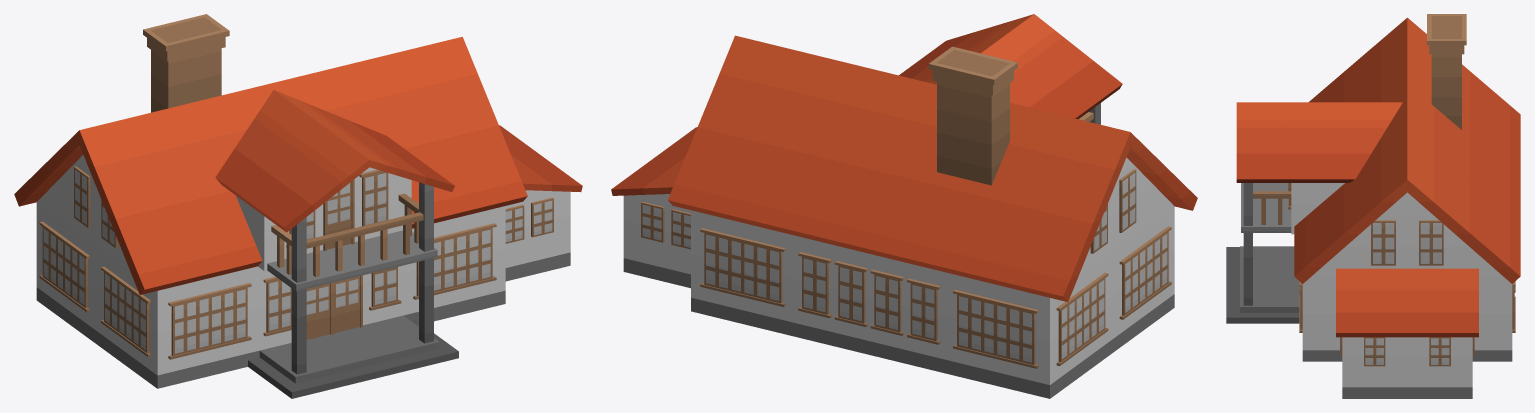
File: farm_house.glb
3 views of the same model, side by side, from view 1: azimuth 30°, elevation 25°; view 2: azimuth 150°, elevation 25°; view 3: azimuth 270°, elevation 25° (orthographic). The views are drawn at different scales.
Visible parts, largest first — view 1: farm_house; view 2: farm_house; view 3: farm_house.
Boxes of the visible parts, bbox=[...] form: farm_house: bbox=[14, 14, 582, 398]; farm_house: bbox=[611, 14, 1197, 398]; farm_house: bbox=[1226, 14, 1520, 398].
Bounding box in the file's own units: 9.66 × 5.4 × 6.14.
Materials: 1 (1 with a texture image).
